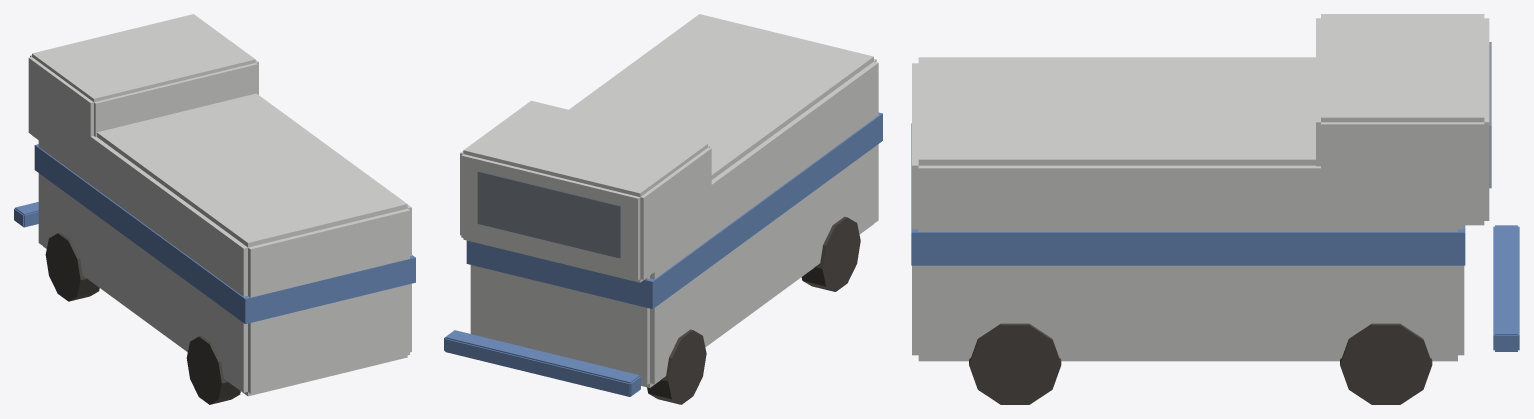
File: mail.glb
3 views of the same model, side by side, from view 1: azimuth 30°, elevation 25°; view 2: azimuth 150°, elevation 25°; view 3: azimuth 270°, elevation 25° (orthographic). The views are drawn at different scales.
Parts seen in each view (by area): view 1: Body, Cab, Stripe, Wheel_FR, Wheel_RR, Bumper; view 2: Body, Cab, Stripe, Glass, Bumper, Wheel_FR, Wheel_RR; view 3: Body, Cab, Stripe, Wheel_FL, Wheel_RL, Bumper.
Part boxes in pixels (x1,y1,x2,y2): Body: [38, 93, 411, 396]; Cab: [28, 14, 258, 139]; Stripe: [34, 144, 415, 323]; Wheel_FR: [45, 232, 99, 301]; Wheel_RR: [186, 336, 240, 404]; Bumper: [14, 202, 38, 227]; Body: [470, 14, 878, 387]; Cab: [460, 100, 711, 282]; Stripe: [466, 112, 882, 309]; Glass: [477, 171, 620, 258]; Bumper: [444, 330, 640, 396]; Wheel_FR: [647, 329, 706, 404]; Wheel_RR: [801, 216, 860, 291]; Body: [912, 57, 1464, 361]; Cab: [1316, 14, 1489, 225]; Stripe: [911, 123, 1465, 265]; Wheel_FL: [1340, 323, 1432, 404]; Wheel_RL: [969, 323, 1061, 404]; Bumper: [1493, 225, 1519, 351].
Bounding box in the file's own units: 1.6 × 1.9 × 3.69.
